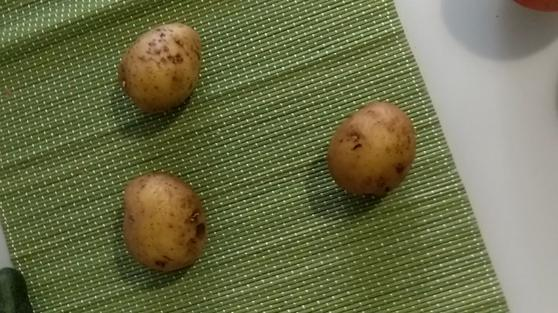potato: (121, 172, 209, 274), (329, 98, 420, 194), (121, 19, 199, 108)
